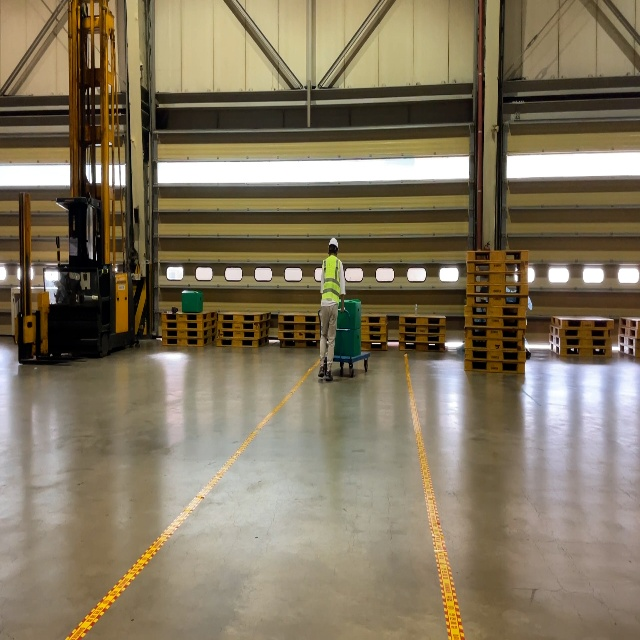Worker: (318, 237, 346, 381)
